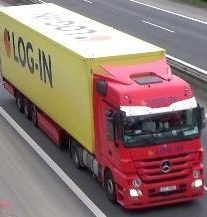truck: (0, 4, 206, 210)
